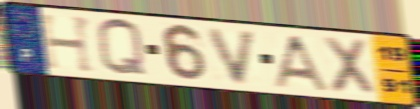6: (159, 22, 208, 84)
A: (269, 33, 332, 93)
H: (36, 12, 98, 75)
Q: (94, 16, 150, 78)
V: (205, 26, 262, 87)
X: (321, 34, 379, 99)
